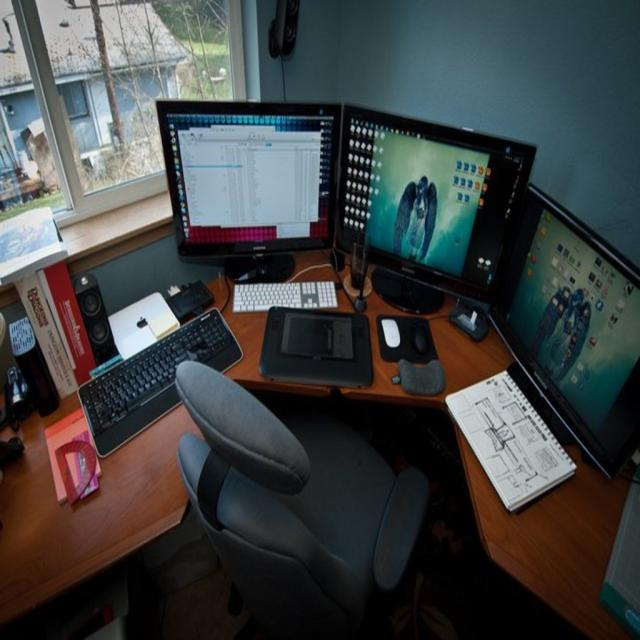Computer mouse: (379, 318, 401, 350)
